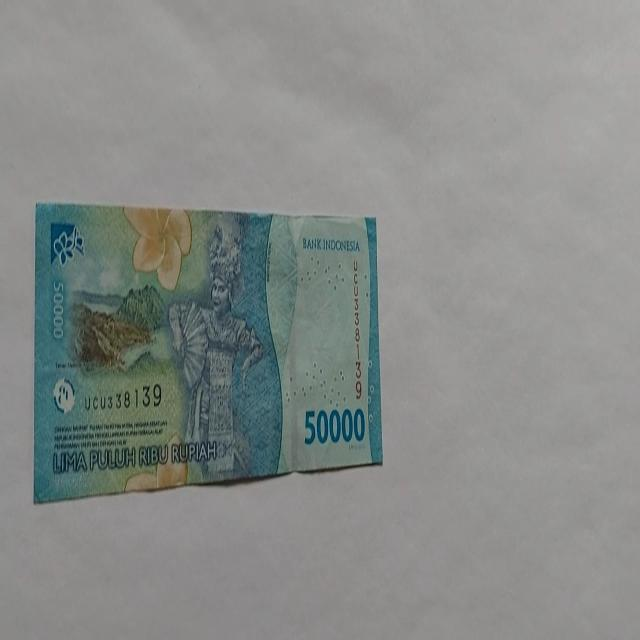lima puluh ribu rupiah: (33, 202, 383, 504)
